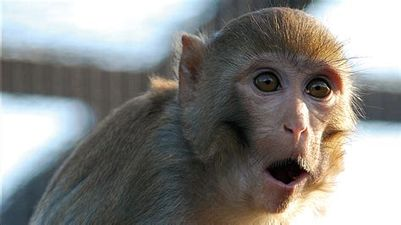monkey: (88, 14, 366, 225)
